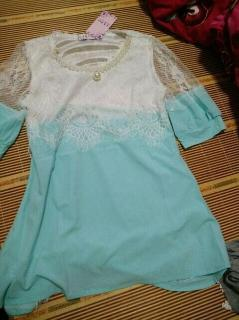short sleeve dress: (0, 29, 232, 315)
